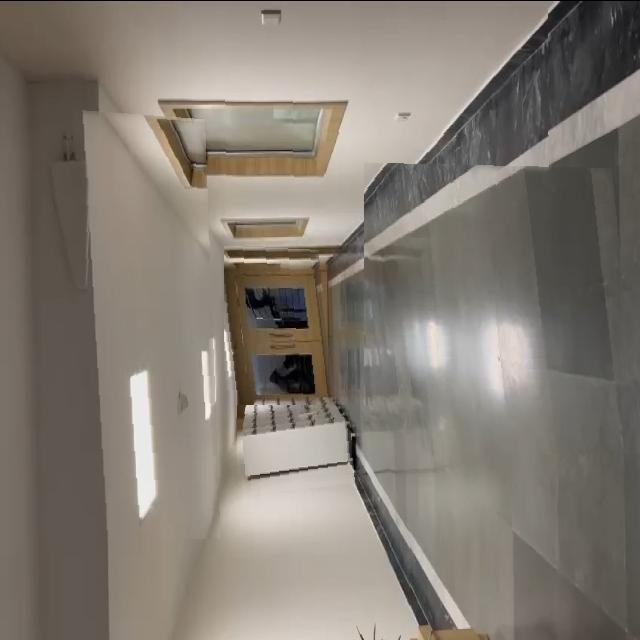door: (224, 244, 334, 394)
floor: (364, 161, 640, 453)
furniture: (237, 404, 355, 495)
wall: (41, 105, 221, 538), (192, 0, 549, 197), (186, 479, 410, 640)
